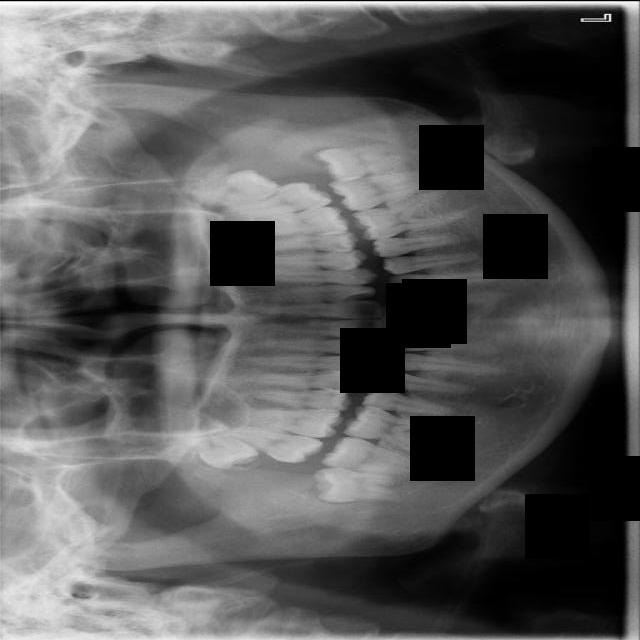3M ESPE Implant: (169, 422, 261, 478)
73: (560, 27, 571, 34)
BioHorizons Implant: (223, 176, 334, 221)
BioLife Implant: (179, 162, 285, 211)
Biomet 3i Implant: (312, 137, 408, 185)
Blue Sky Bio Implant: (327, 167, 430, 214)
Caries: (222, 423, 326, 467)
Implant: (320, 433, 419, 478)
Keystone Dental Implant: (311, 465, 402, 504)
